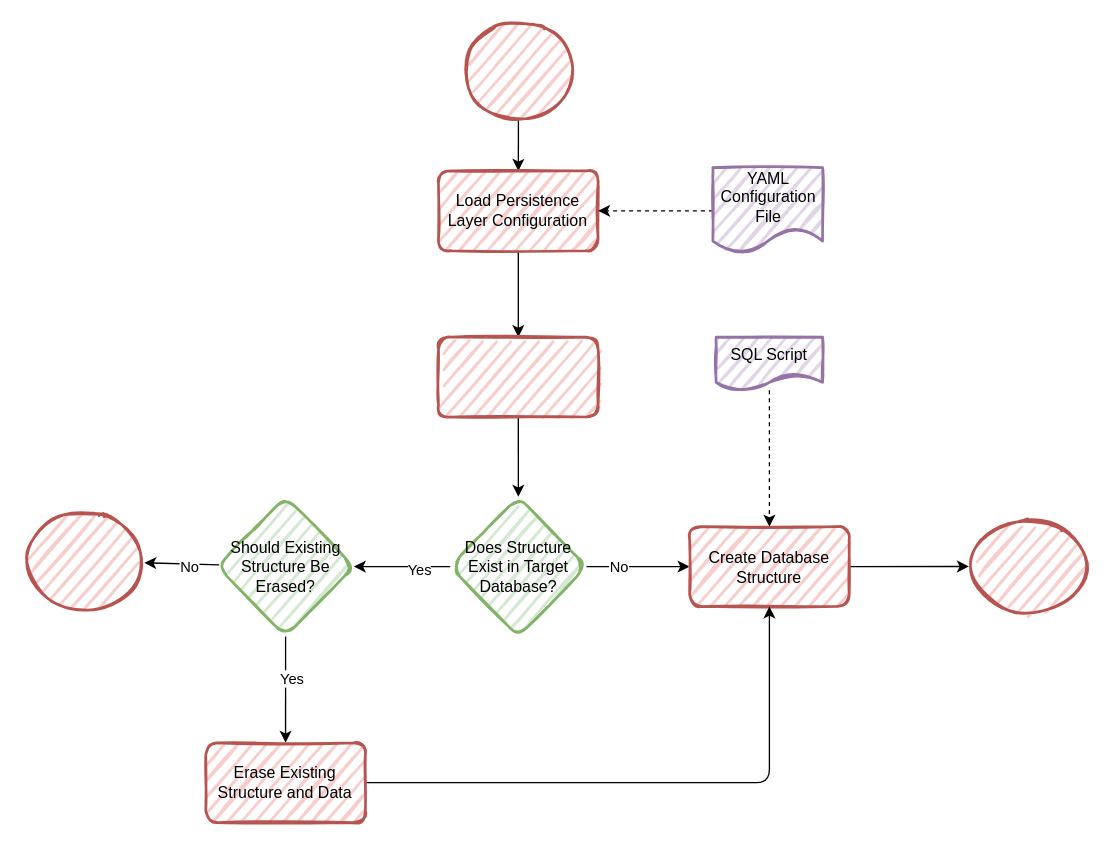
Some shapes in this 1112 by 846 pixel diagram are drawn without their labels. The centre of each missing label's shape, as x and y in pixels:
Establish Engine Connection: the point at 518,376
Initiate Setup: the point at 518,70
Setup Complete: No Changes: the point at 84,560
Setup Complete: Structure Applied: the point at 1028,565
